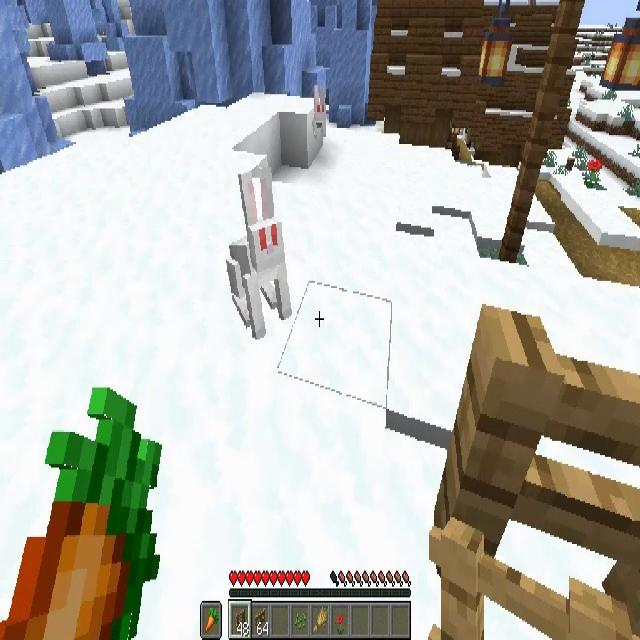rabbit: (222, 217, 291, 342), (311, 82, 327, 148)
